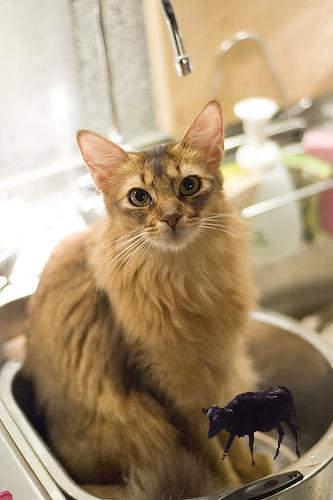tampered: (203, 387, 300, 466)
